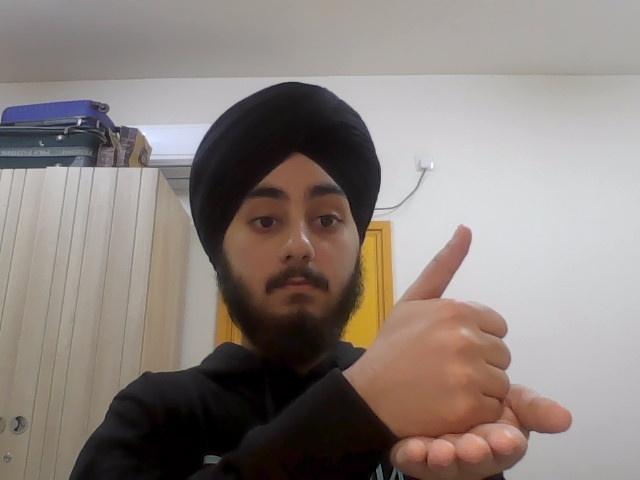Help: (386, 211, 576, 476)
